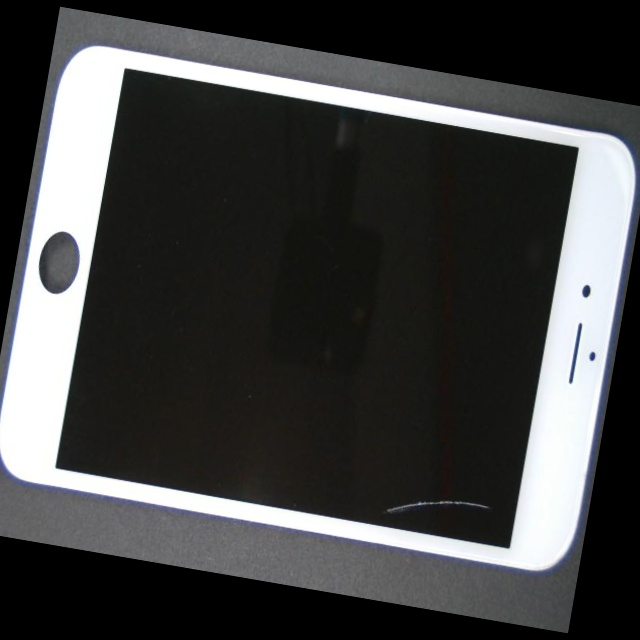scratch: (287, 243, 627, 633)
